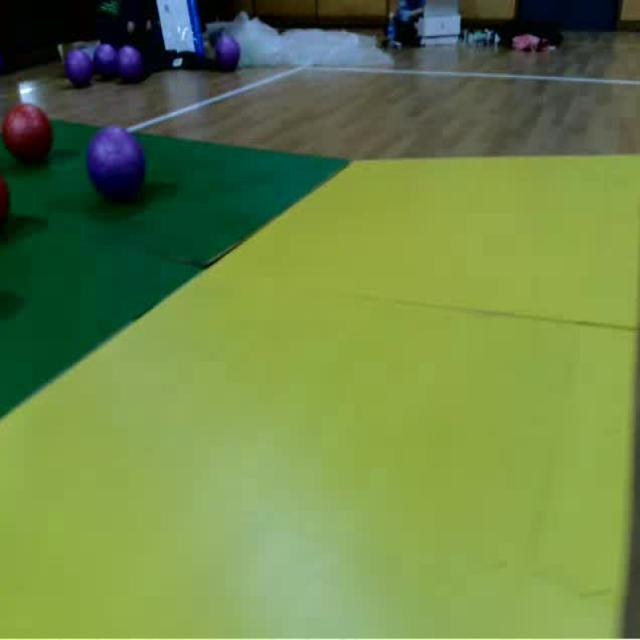purple_ball: (88, 125, 146, 197), (213, 32, 241, 68), (65, 50, 92, 85), (116, 46, 141, 80), (95, 44, 117, 73)
red_ball: (4, 103, 52, 167)
